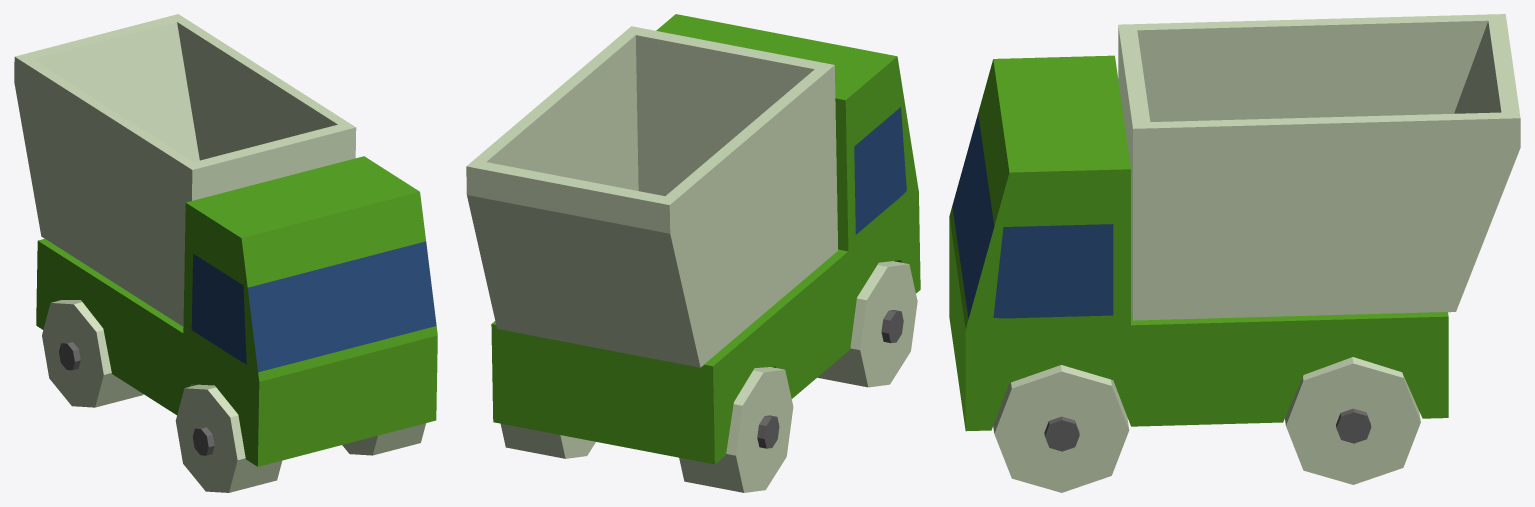
The model's file is Isl_9_Children_toy.fbx.
3 views of the same model, side by side, from view 1: azimuth 30°, elevation 25°; view 2: azimuth 150°, elevation 25°; view 3: azimuth 270°, elevation 25° (orthographic). The views are drawn at different scales.
Parts seen in each view (by area): view 1: Isl_9_Children_toy; view 2: Isl_9_Children_toy; view 3: Isl_9_Children_toy.
Part boxes in pixels (bbox=[...]): Isl_9_Children_toy: bbox=[14, 14, 437, 492]; Isl_9_Children_toy: bbox=[466, 14, 920, 492]; Isl_9_Children_toy: bbox=[949, 14, 1520, 492].
Size of the model in its own units: 22.69 by 41.1 by 28.7.
1 material, 1 textured.
